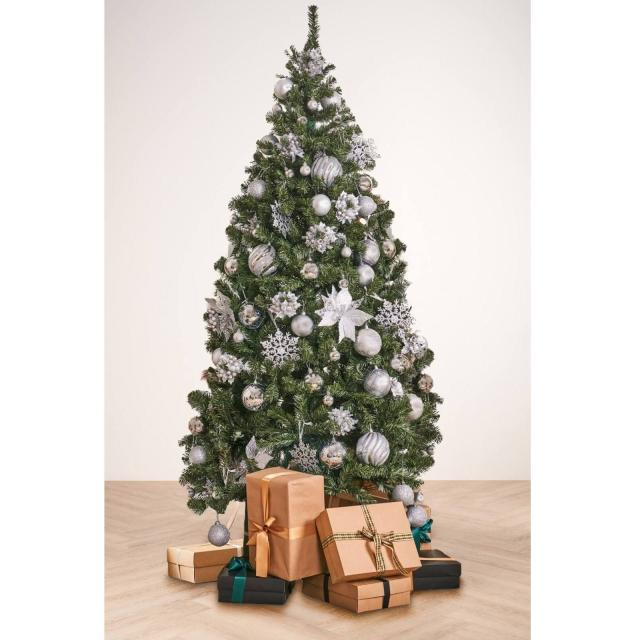Christmas-tree: (116, 2, 464, 492)
